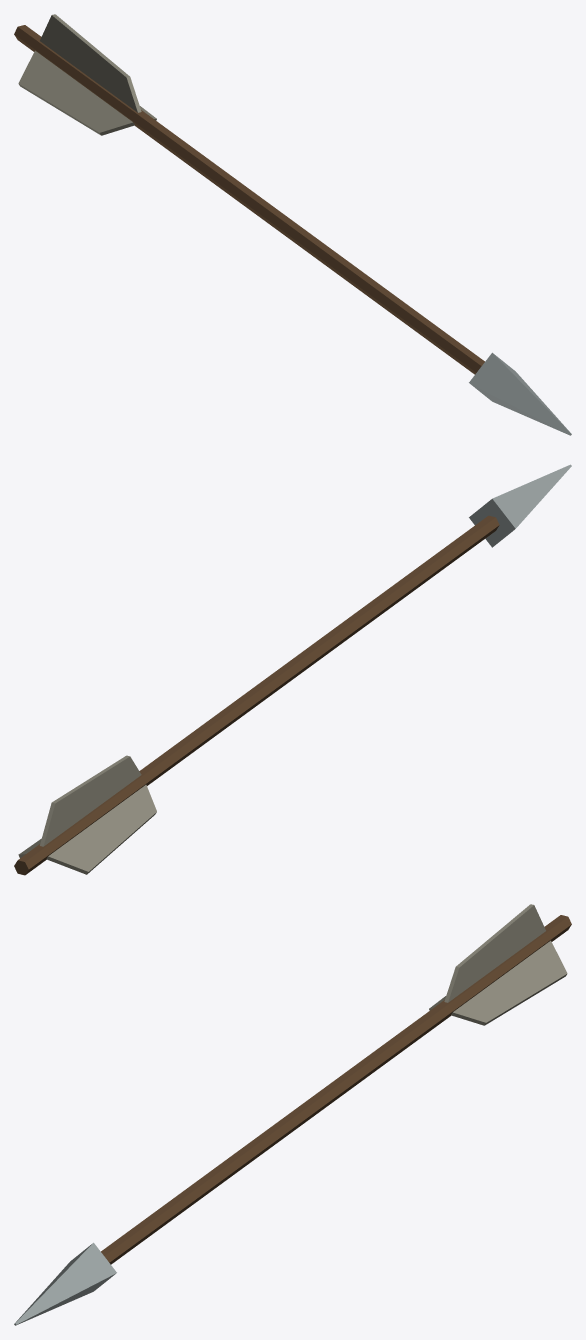
Rendered from AMMO_Arrow_00_Iron.glb.
3 renders of one model, top to bottom at view 1: azimuth 30°, elevation 25°; view 2: azimuth 150°, elevation 25°; view 3: azimuth 330°, elevation 25°, orthographic.
Parts seen in each view (by area): view 1: AMMO_Arrow_00_Iron__Body; view 2: AMMO_Arrow_00_Iron__Body; view 3: AMMO_Arrow_00_Iron__Body.
Part boxes in pixels (box(x1,y1,x2,y2)): AMMO_Arrow_00_Iron__Body: box(14, 14, 571, 435); AMMO_Arrow_00_Iron__Body: box(14, 464, 571, 875); AMMO_Arrow_00_Iron__Body: box(14, 904, 571, 1325).
Size of the model in its own units: 0.0569 by 0.051 by 0.77.
